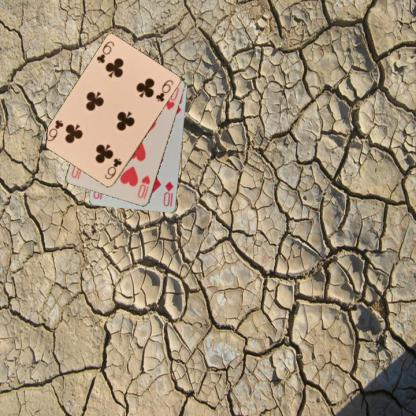10d: (161, 179, 175, 208)
10h: (134, 173, 152, 200)
6c: (94, 38, 116, 64), (102, 156, 123, 181)
